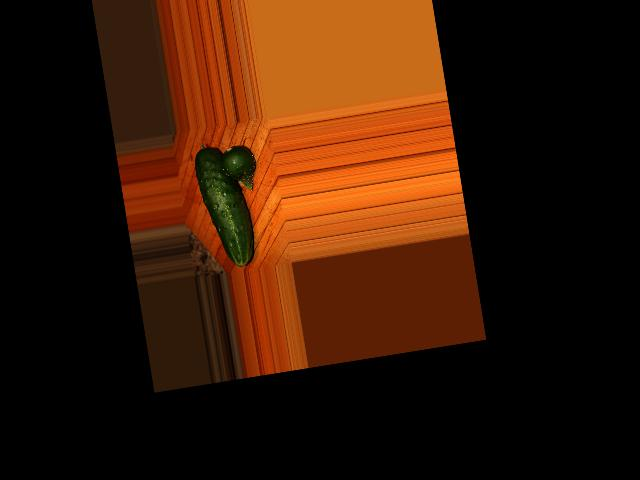cucumber: (192, 142, 258, 271)
